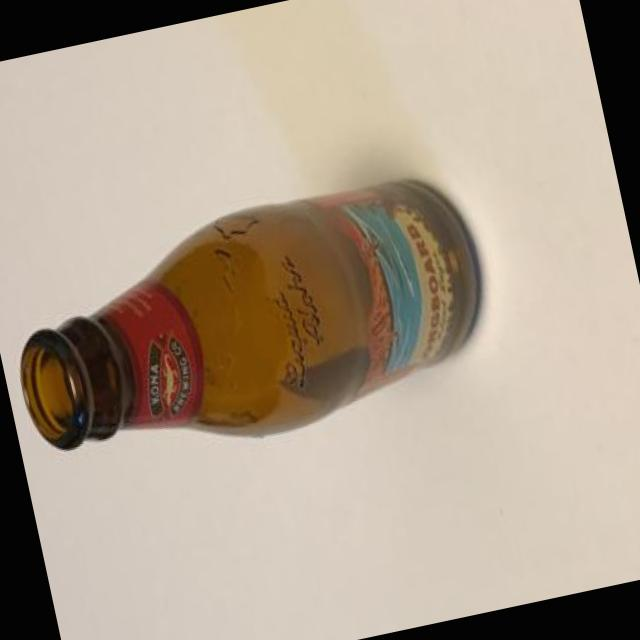chai_thuy_tinh: (20, 178, 482, 448)
